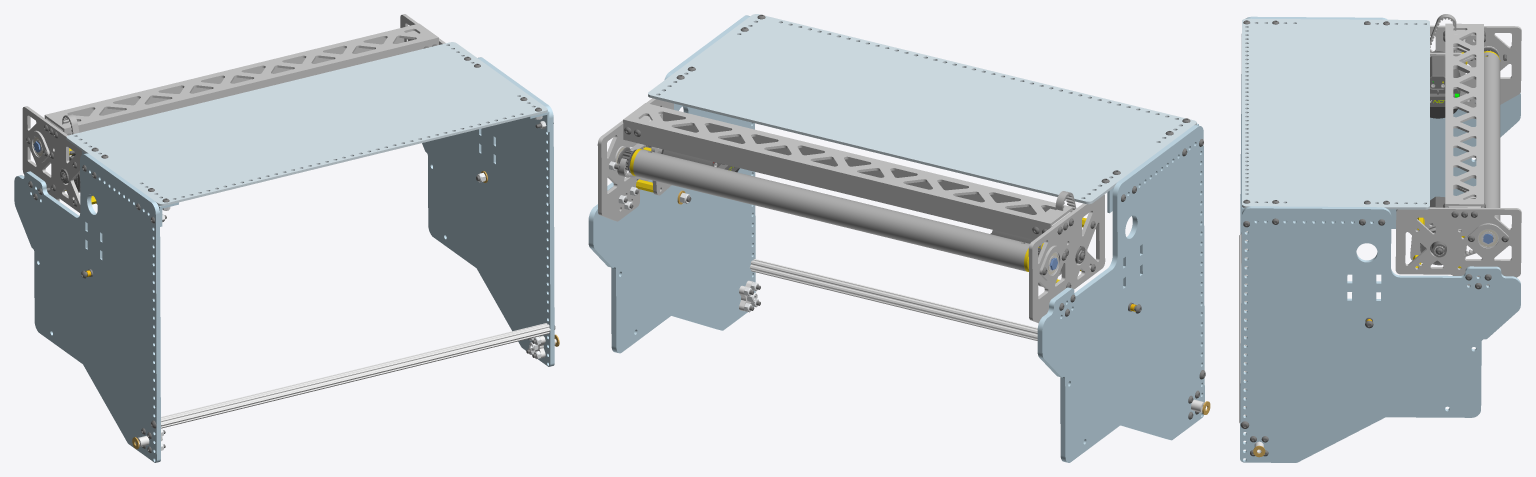
3 renders of one model, left to right at view 1: azimuth 30°, elevation 25°; view 2: azimuth 150°, elevation 25°; view 3: azimuth 270°, elevation 25°, orthographic. The views are drawn at different scales.
Visible parts, largest first — view 1: HB26-03-023 (×2), HB26-03-024, HB26-03-033B, 1/2" Churro (23" L, 6061 Aluminum), HB26-03-029; view 2: HB26-03-023 (×2), HB26-03-024, HB26-03-033B, HB26-03-028, HB26-03-029 (×2), 1/2" Churro (23" L, 6061 Aluminum); view 3: HB26-03-023 (×2), HB26-03-024, HB26-03-029 (×2), HB26-03-033B, HB26-03-028, Kraken X60 Brushless Motor, 1/2" Churro (23" L, 6061 Aluminum), HB26-03-037, HB26-03-040.
Boxes of the visible parts, x1=… form: HB26-03-023 (×2): x1=14, y1=57, x2=554, y2=462; HB26-03-024: x1=66, y1=42, x2=547, y2=206; HB26-03-033B: x1=44, y1=23, x2=438, y2=134; 1/2" Churro (23" L, 6061 Aluminum): x1=161, y1=323, x2=550, y2=428; HB26-03-029: x1=22, y1=106, x2=81, y2=212; HB26-03-023 (×2): x1=588, y1=15, x2=1204, y2=462; HB26-03-024: x1=648, y1=14, x2=1196, y2=204; HB26-03-033B: x1=623, y1=103, x2=1072, y2=239; HB26-03-028: x1=633, y1=149, x2=1029, y2=271; HB26-03-029 (×2): x1=597, y1=98, x2=1105, y2=323; 1/2" Churro (23" L, 6061 Aluminum): x1=749, y1=259, x2=1037, y2=340; HB26-03-023 (×2): x1=1240, y1=16, x2=1520, y2=462; HB26-03-024: x1=1242, y1=18, x2=1429, y2=209; HB26-03-029 (×2): x1=1395, y1=25, x2=1521, y2=285; HB26-03-033B: x1=1445, y1=23, x2=1483, y2=207; HB26-03-028: x1=1484, y1=52, x2=1500, y2=220; Kraken X60 Brushless Motor: x1=1430, y1=56, x2=1460, y2=118; 1/2" Churro (23" L, 6061 Aluminum): x1=1239, y1=231, x2=1247, y2=423; HB26-03-037: x1=1467, y1=223, x2=1508, y2=253; HB26-03-040: x1=1410, y1=217, x2=1466, y2=262.
Bounding box in the file's own units: 0.6318 × 0.3846 × 0.3716.
